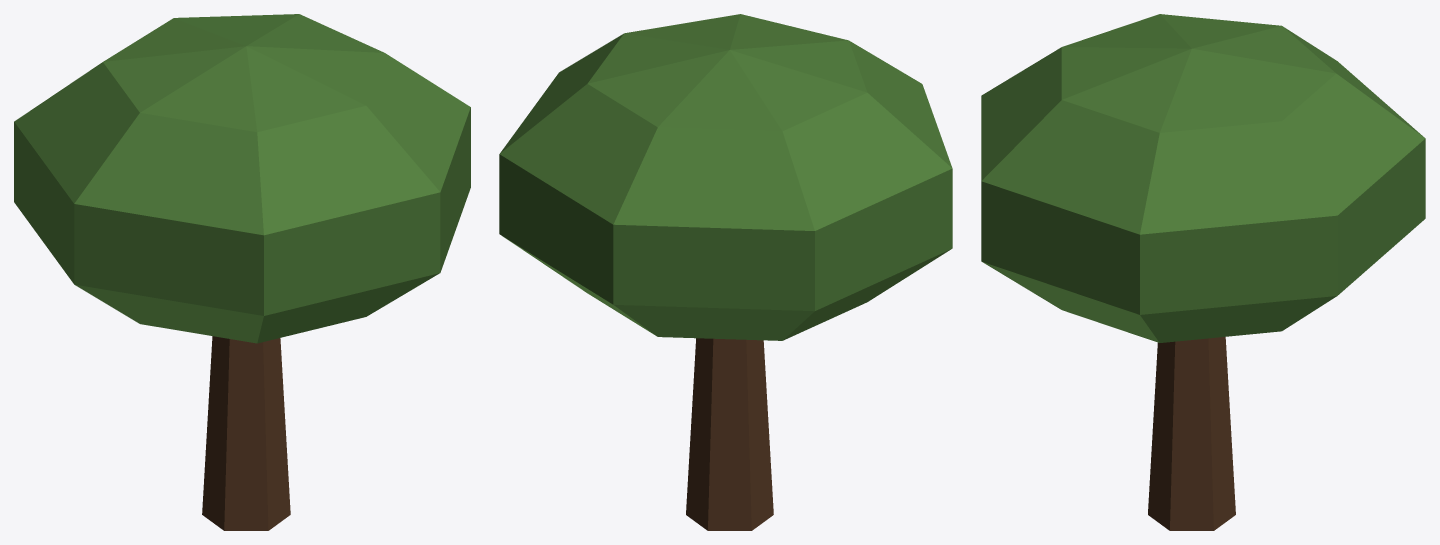
The model's file is br_willow_a_lod1.glb.
3 views of the same model, side by side, from view 1: azimuth 30°, elevation 25°; view 2: azimuth 150°, elevation 25°; view 3: azimuth 270°, elevation 25° (orthographic).
Parts seen in each view (by area): view 1: br_willow_a_lod1; view 2: br_willow_a_lod1; view 3: br_willow_a_lod1.
Boxes of the visible parts, left/top/right/bottom form: br_willow_a_lod1: left=14, top=14, right=470, bottom=530; br_willow_a_lod1: left=499, top=14, right=952, bottom=530; br_willow_a_lod1: left=981, top=14, right=1425, bottom=530.
Size of the model in its own units: 2.89 by 3.27 by 2.82.
